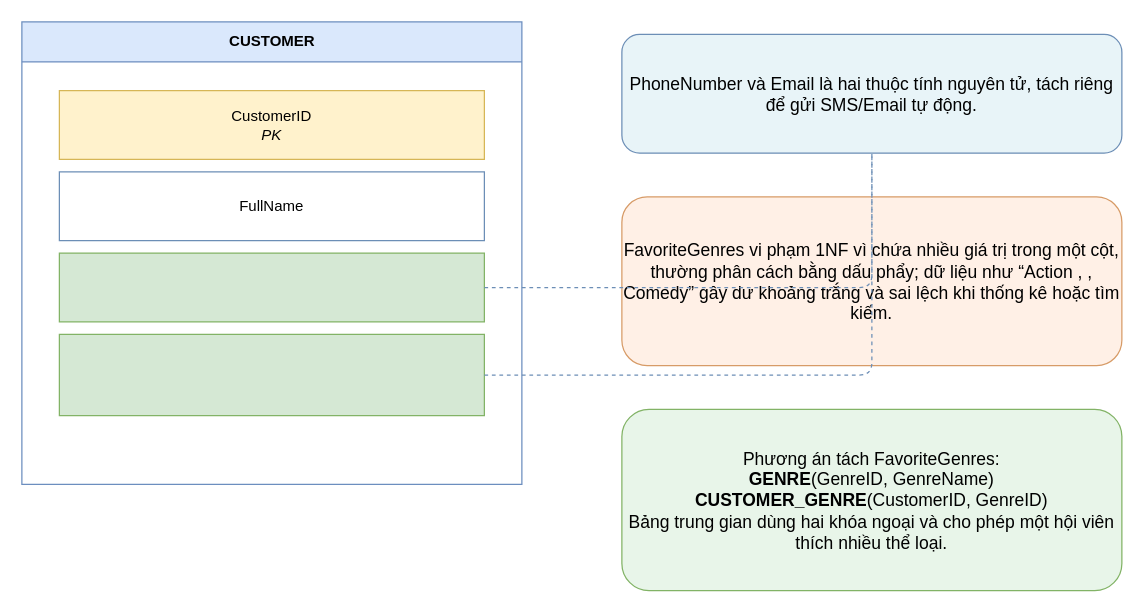
The diagram is 1144 pixels wide and 613 high, and some of its shapes have lost their labels. The shapes that lost their labels are listed below. From the top down, each one's centre as x and y in pixels, then its label:
At (x=271, y=287): "PhoneNumber".
At (x=271, y=374): "Email NULL được phép".
